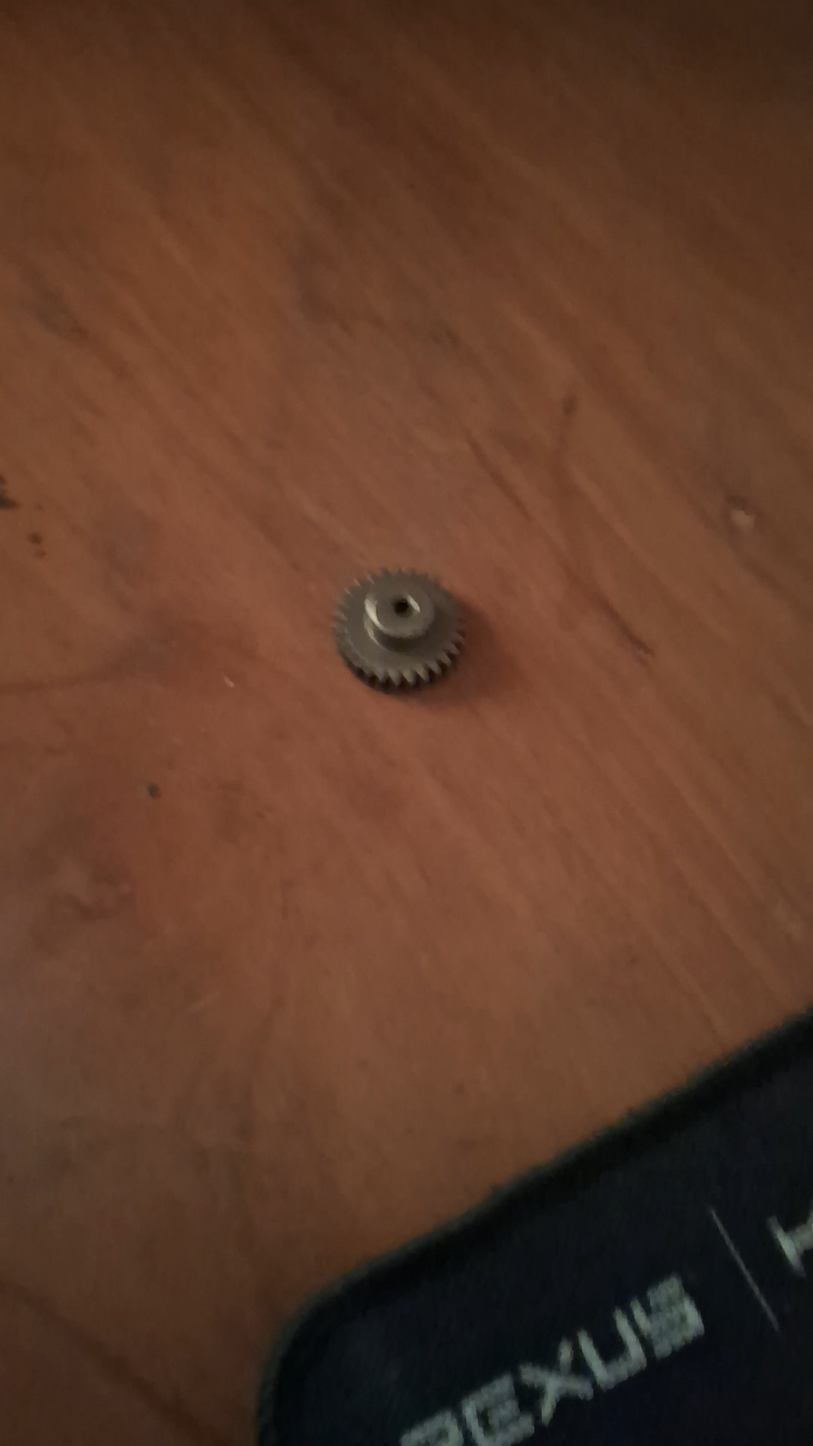spur gear: (335, 571, 463, 689)
